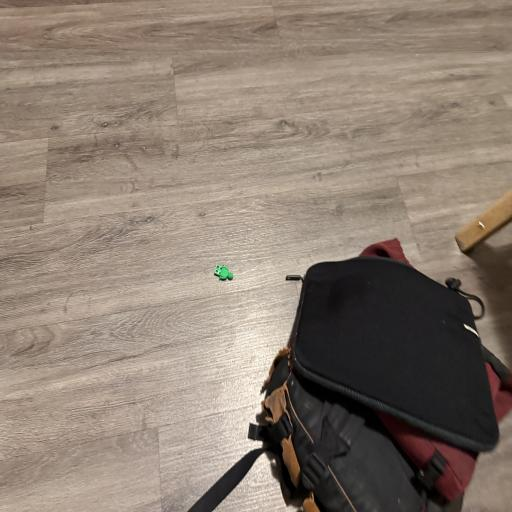Minifig: (214, 265, 233, 280)
